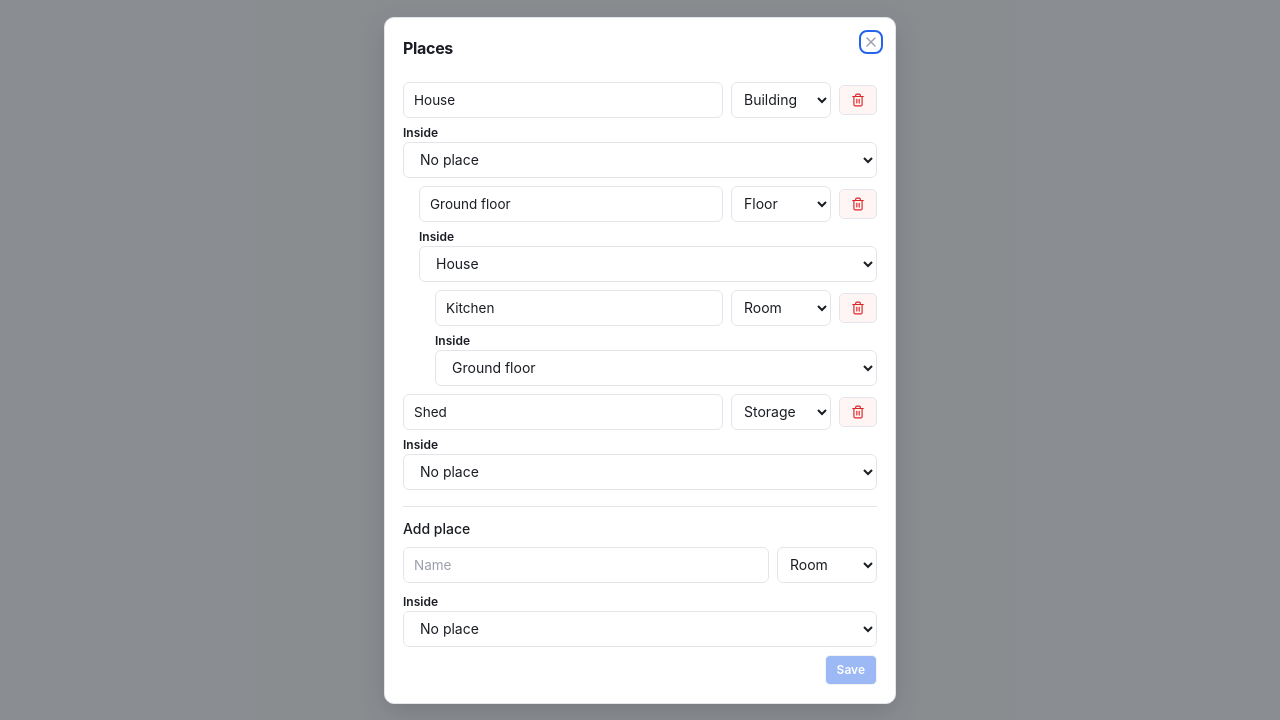
Test: PlaceManager error codes › renders PLACE_CYCLE in plain language
This screenshot has width=1280, height=720.
Check: the 3rd field showing "Kitchen" is shown, box x1=435 y1=290 x2=723 y2=326
Select "Shed" in the 3rd dropdown labelled "Inside" at (656, 368), box x1=435 y1=350 x2=877 y2=386
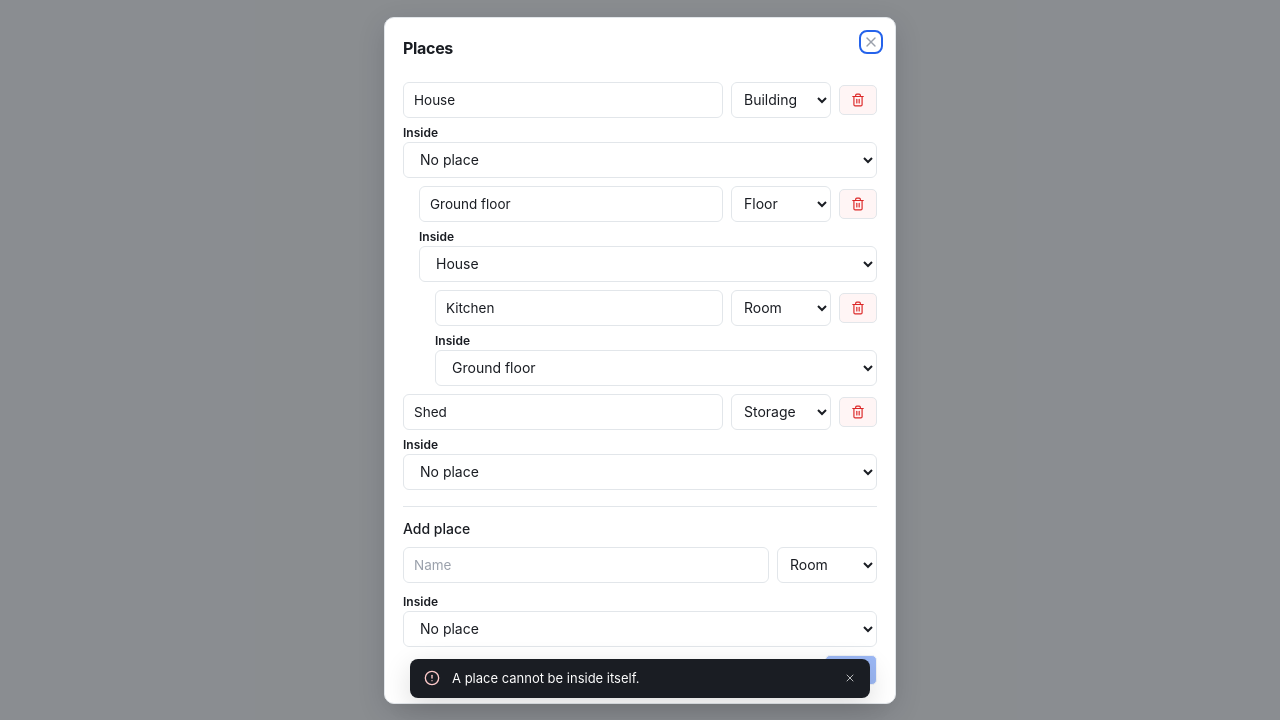
Check: the text "A place cannot be inside itself." is shown, box x1=452 y1=670 x2=640 y2=686
